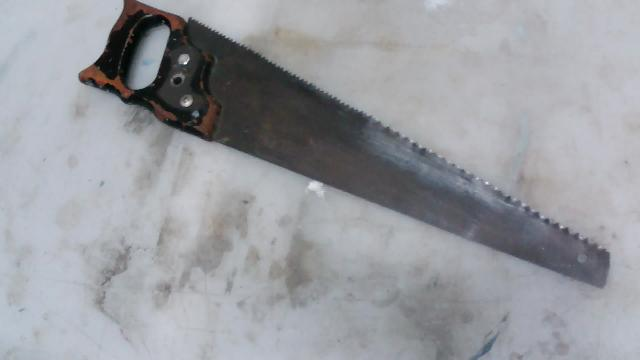gergaji_kayu: (62, 0, 633, 330)
